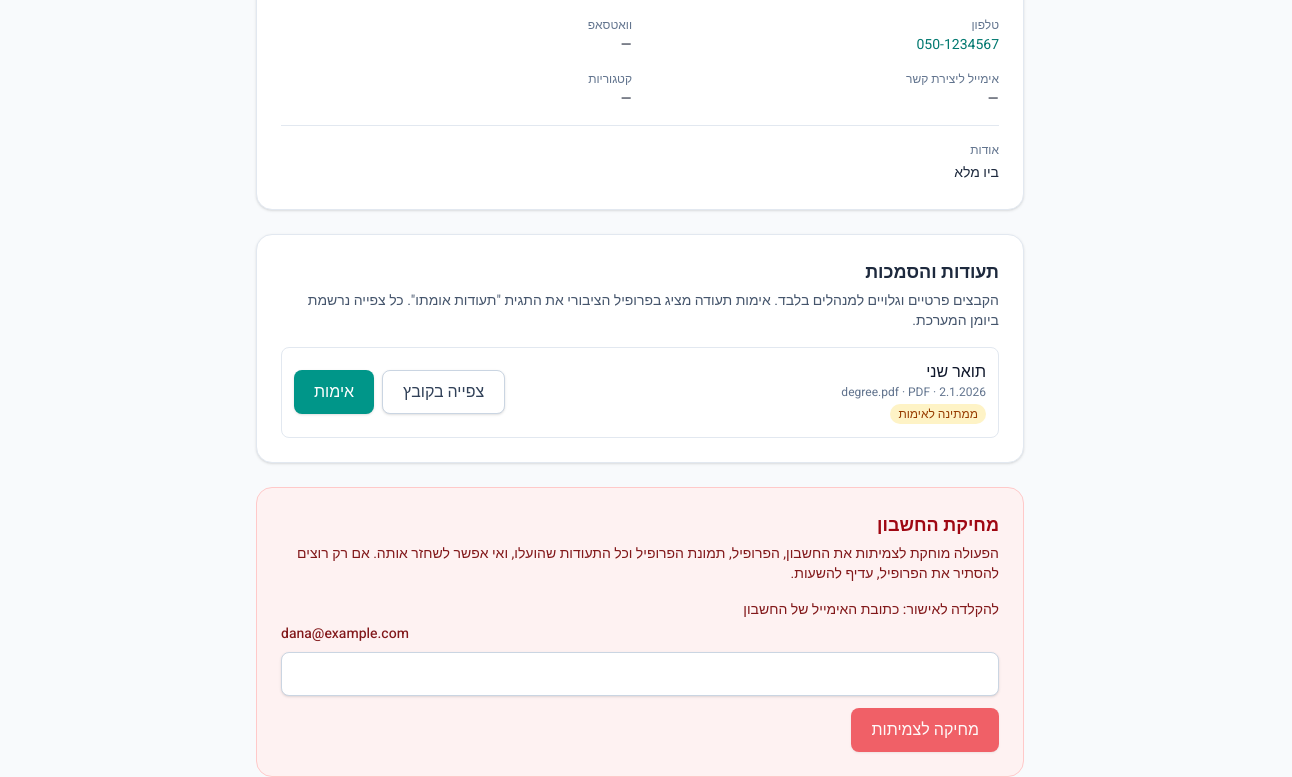
Test: AdminTherapistPage: certificates › closes the blank tab and shows an error when the file cannot be fetched
The width and height of the screenshot is (1292, 777).
(page scrolled)
Click the button "צפייה בקובץ".
click(444, 392)  # box top-left (382, 370), bottom-right (505, 414)
(page scrolled)
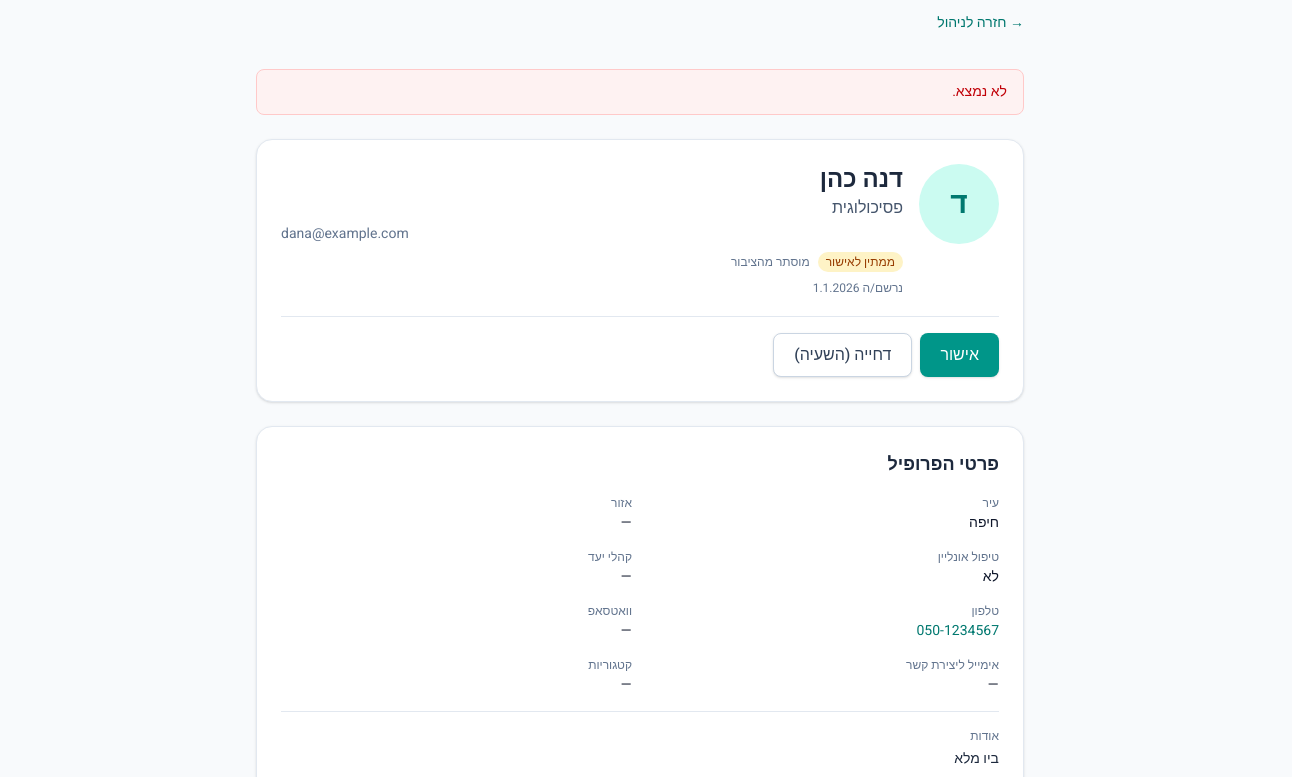
expect the message shows "לא נמצא": met, box top-left (952, 81), bottom-right (1007, 102)
